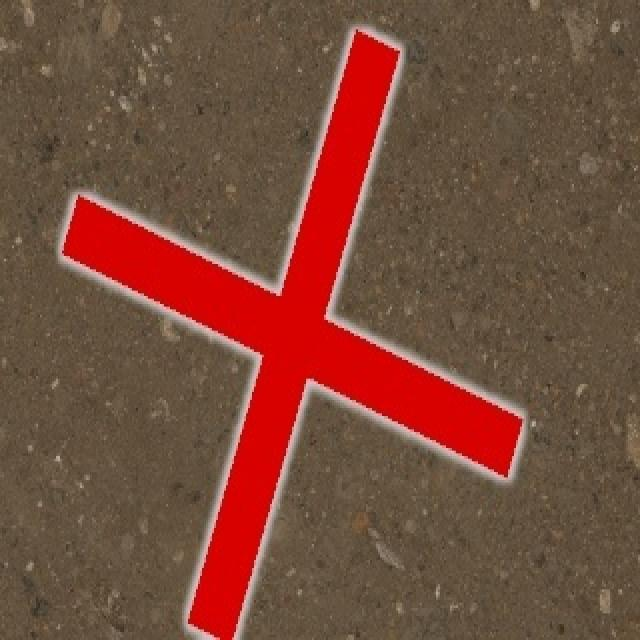x_marker: (61, 31, 521, 638)
